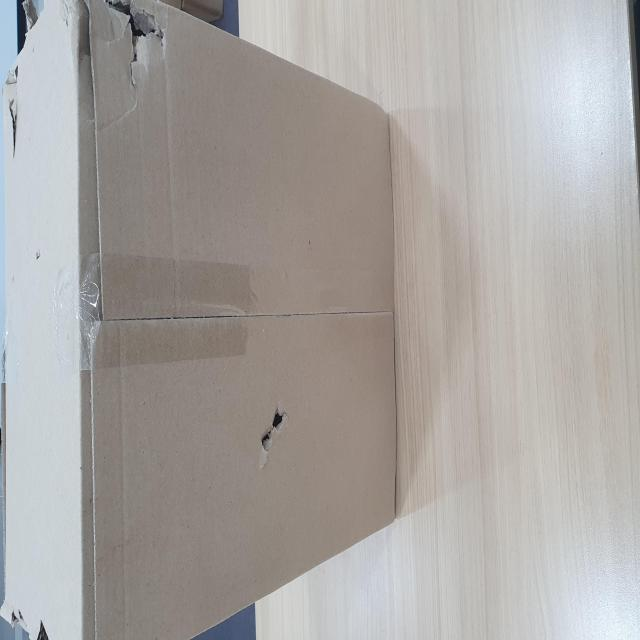damaged: (317, 200, 360, 274), (98, 446, 138, 517)
